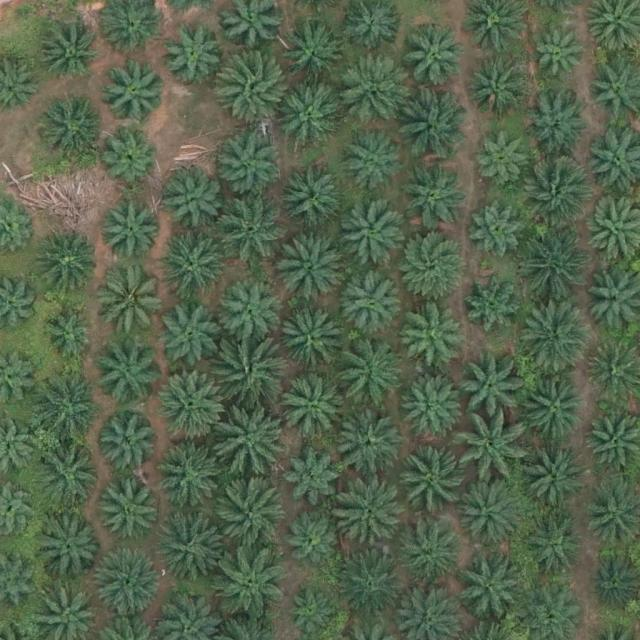Healthy: (397, 445, 468, 516), (34, 374, 105, 445), (394, 227, 465, 298), (336, 200, 407, 271), (519, 377, 589, 448), (522, 445, 592, 516), (456, 552, 527, 622), (333, 413, 403, 484), (337, 547, 407, 618), (213, 339, 283, 410), (217, 409, 287, 480), (219, 482, 289, 553), (216, 548, 286, 619), (157, 511, 227, 582), (92, 340, 163, 410), (156, 369, 226, 440), (94, 549, 164, 620), (520, 155, 590, 226), (518, 228, 588, 299), (397, 89, 467, 160), (337, 54, 407, 125), (277, 231, 347, 302), (155, 228, 226, 298), (99, 267, 169, 338), (519, 305, 589, 375), (455, 414, 525, 484), (454, 479, 524, 549), (337, 339, 407, 409), (338, 484, 408, 554), (279, 372, 349, 442), (157, 442, 227, 512), (34, 437, 104, 507), (217, 197, 287, 267), (214, 128, 284, 198), (218, 53, 288, 123), (402, 28, 465, 91), (95, 414, 158, 477), (100, 479, 163, 542), (525, 97, 588, 160), (469, 197, 532, 260), (340, 128, 403, 191), (277, 84, 340, 147), (157, 304, 220, 367), (102, 200, 165, 263), (104, 59, 167, 122), (39, 97, 102, 160), (161, 22, 223, 85), (39, 21, 101, 84), (401, 525, 463, 588), (405, 377, 467, 440), (283, 448, 345, 511), (40, 519, 102, 582), (461, 272, 523, 335), (398, 303, 460, 366), (341, 271, 403, 334), (280, 168, 342, 231), (277, 310, 339, 373), (220, 282, 282, 345), (162, 170, 224, 233), (525, 519, 587, 581), (457, 359, 519, 421), (467, 56, 529, 118), (401, 167, 463, 229), (284, 26, 346, 88), (36, 234, 98, 296), (531, 32, 586, 87), (290, 513, 345, 568), (477, 132, 532, 187), (104, 129, 159, 184), (42, 304, 97, 359)
Small: (289, 590, 336, 637)
